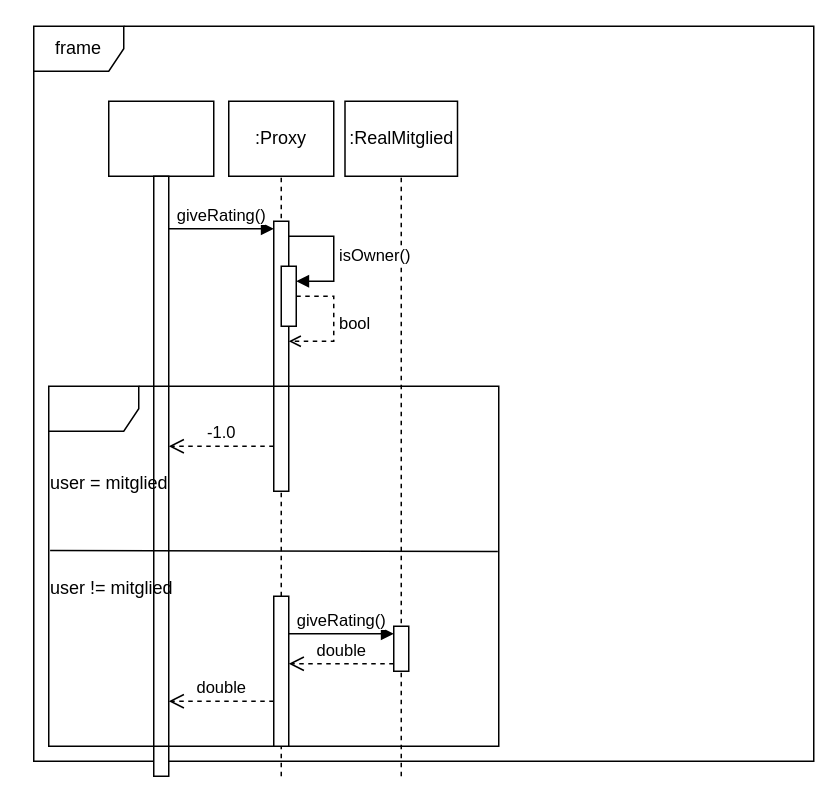
The diagram is 840 pixels wide and 804 high, and some of its shapes have lost their labels. Each missing label, with the box of its shape:
:Client: (107, 100, 214, 176)
alt: (47, 385, 499, 746)
